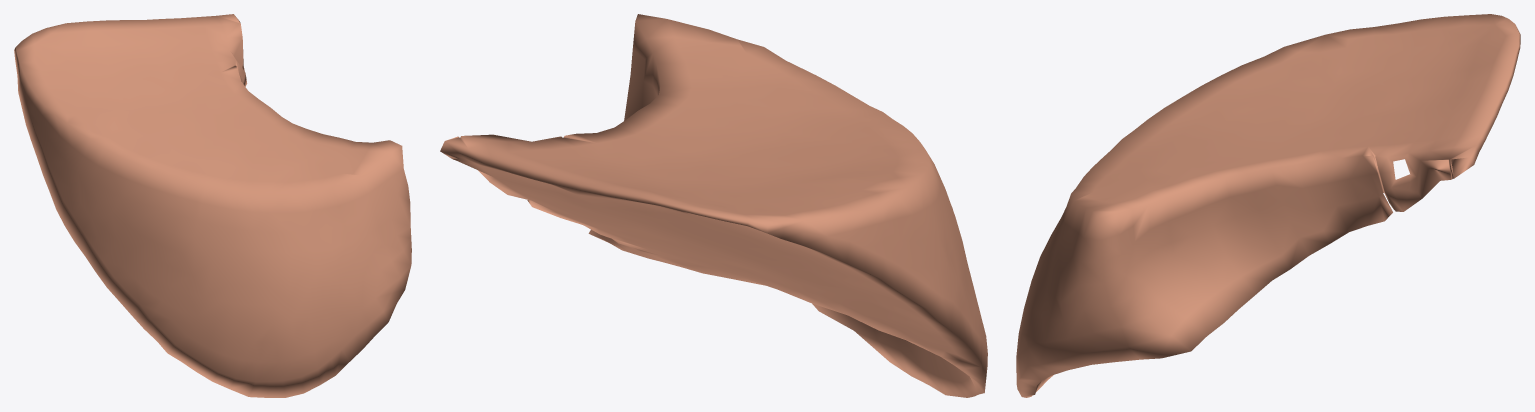
Rendered from middle-lobe-of-right-lung.glb.
The picture shows the model from 3 angles, left to right: view 1: azimuth 30°, elevation 25°; view 2: azimuth 150°, elevation 25°; view 3: azimuth 270°, elevation 25°; orthographic projection. The views are drawn at different scales.
Parts seen in each view (by area): view 1: Middle lobe of right lung; view 2: Middle lobe of right lung; view 3: Middle lobe of right lung.
Boxes of the visible parts, x1=… form: Middle lobe of right lung: x1=14, y1=14, x2=411, y2=397; Middle lobe of right lung: x1=440, y1=14, x2=987, y2=397; Middle lobe of right lung: x1=1016, y1=14, x2=1520, y2=397.
Bounding box in the file's own units: 0.1192 × 0.1065 × 0.1508.
